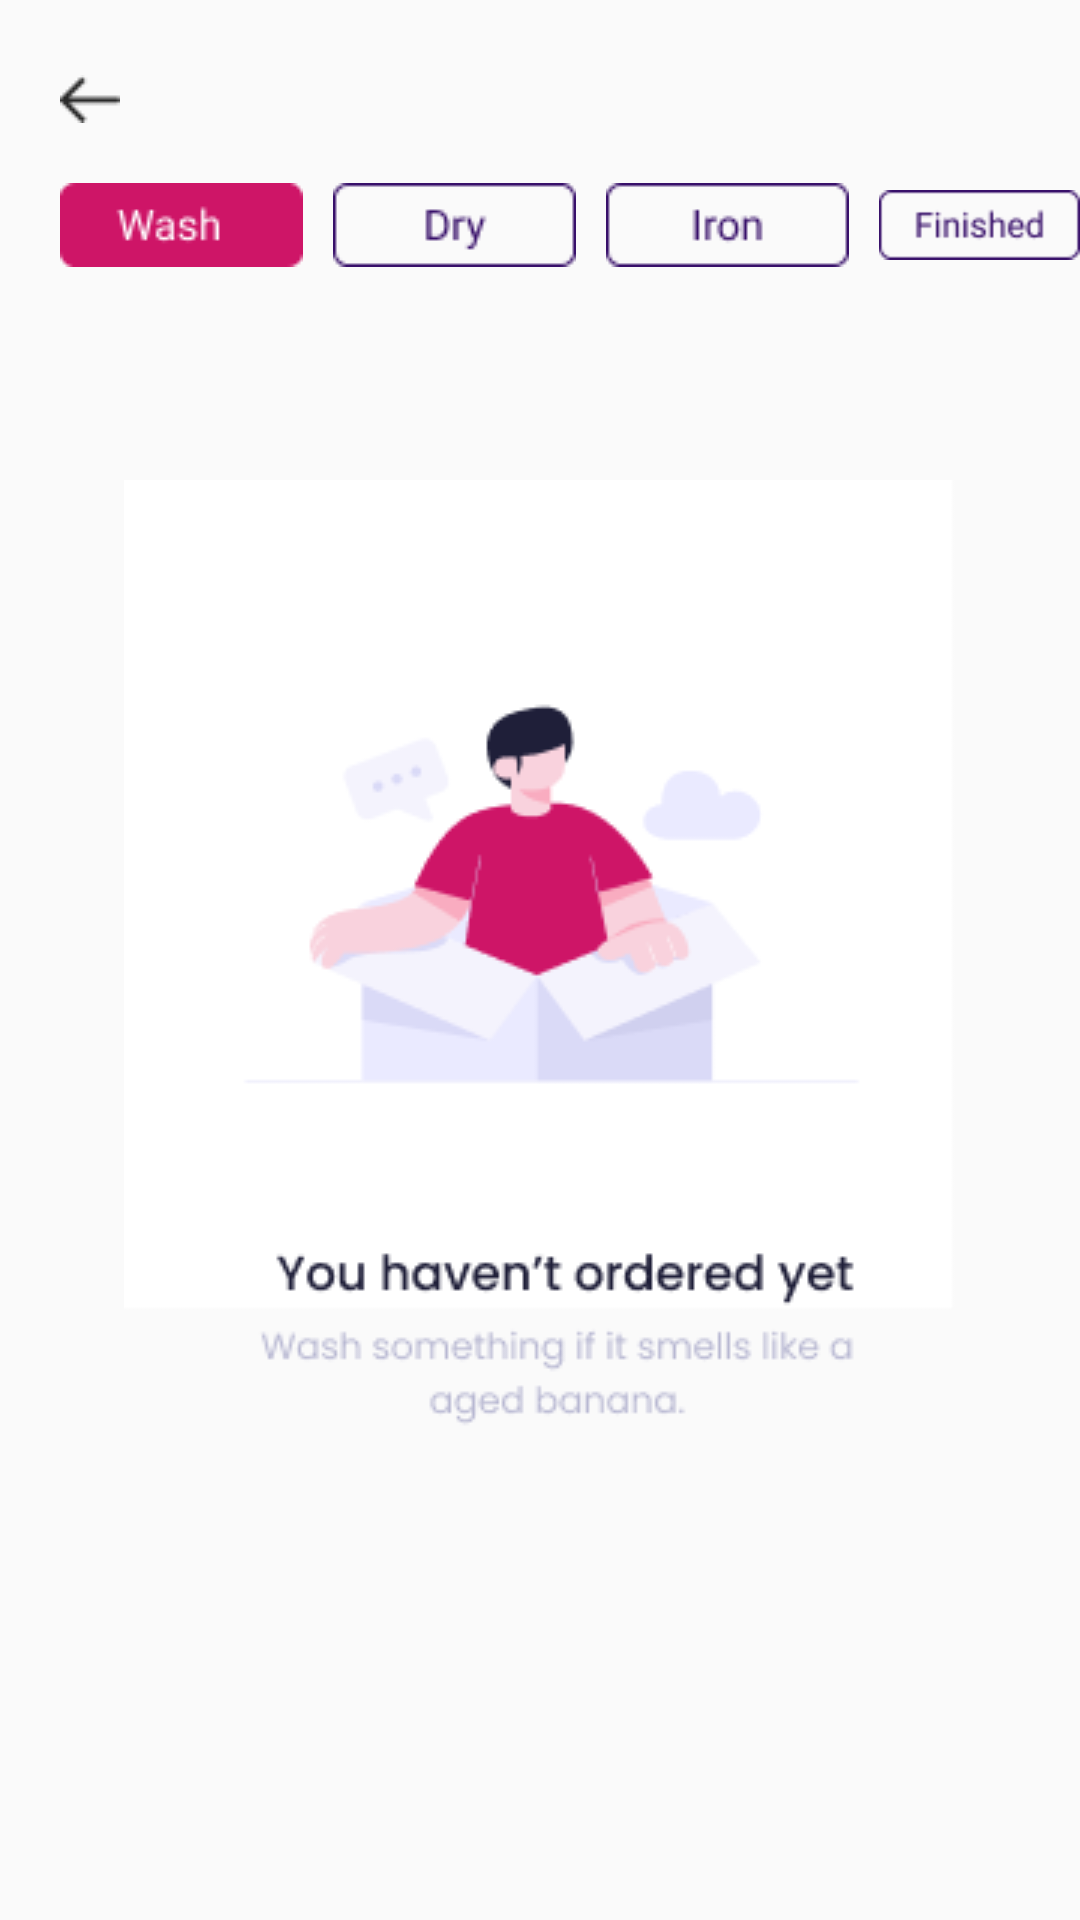

Screen size 1080 x 1920. Icon name, then its box in pixels as [x1,y1,x2,y2]:
back: [60,77,120,123]
